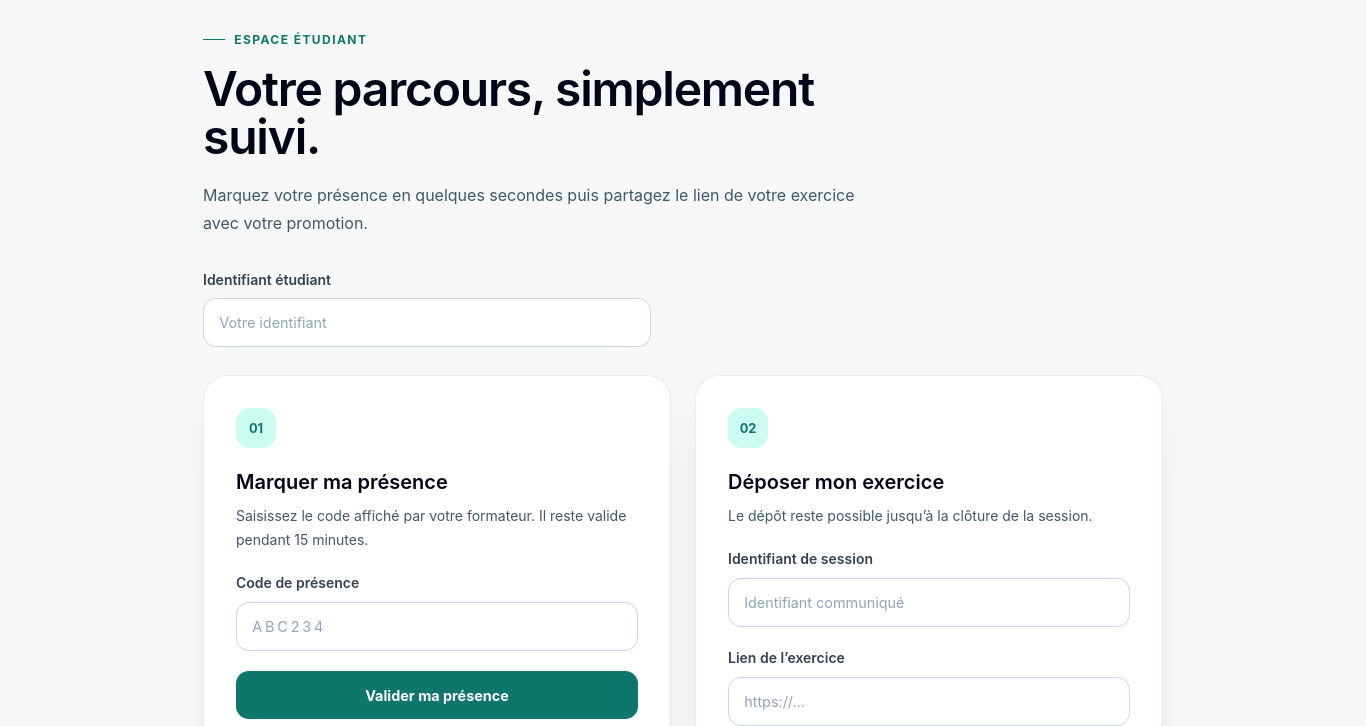
Test: EtudiantPage exercise › dépose un lien et permet de le remplacer tant que la relecture est en attente
Type "9" into the number field labelled "Identifiant étudiant". click: (427, 323)
box: [203,298,651,348]
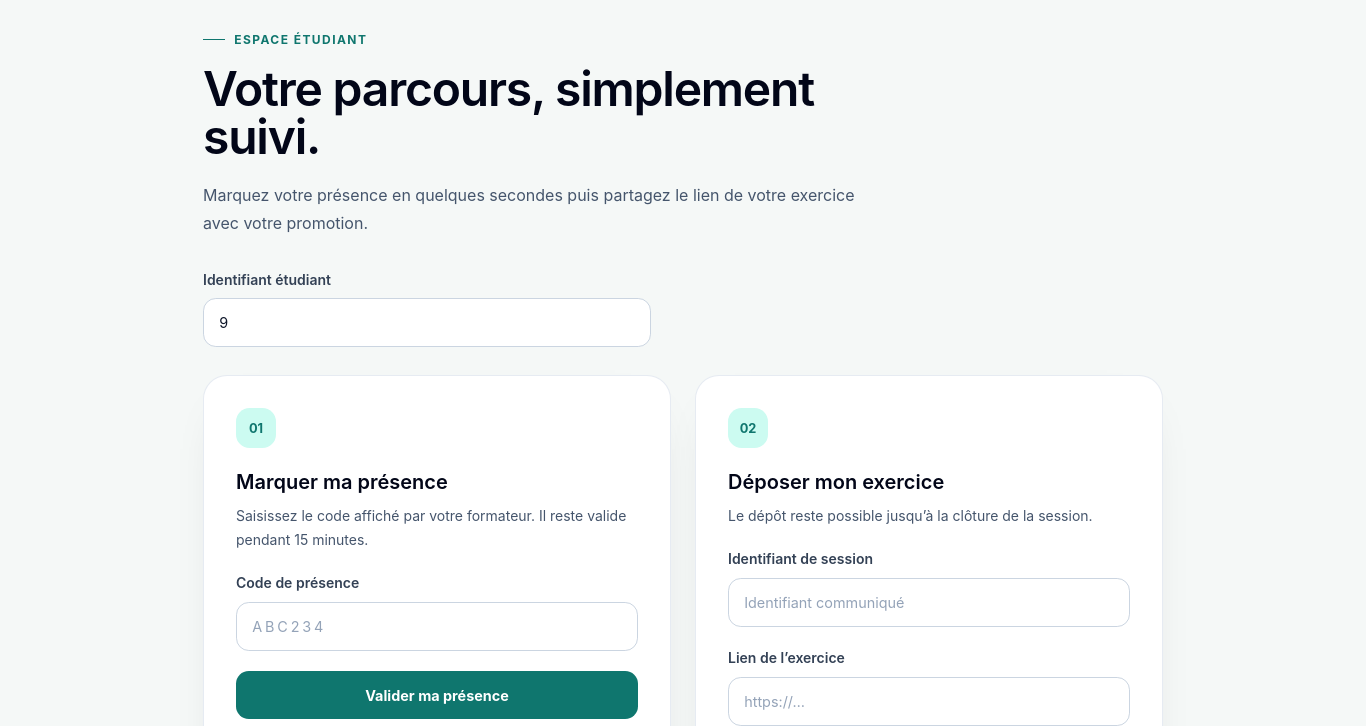
Type "3" into the number field labelled "Identifiant de session". click: (929, 603)
box: [728,578,1130,628]
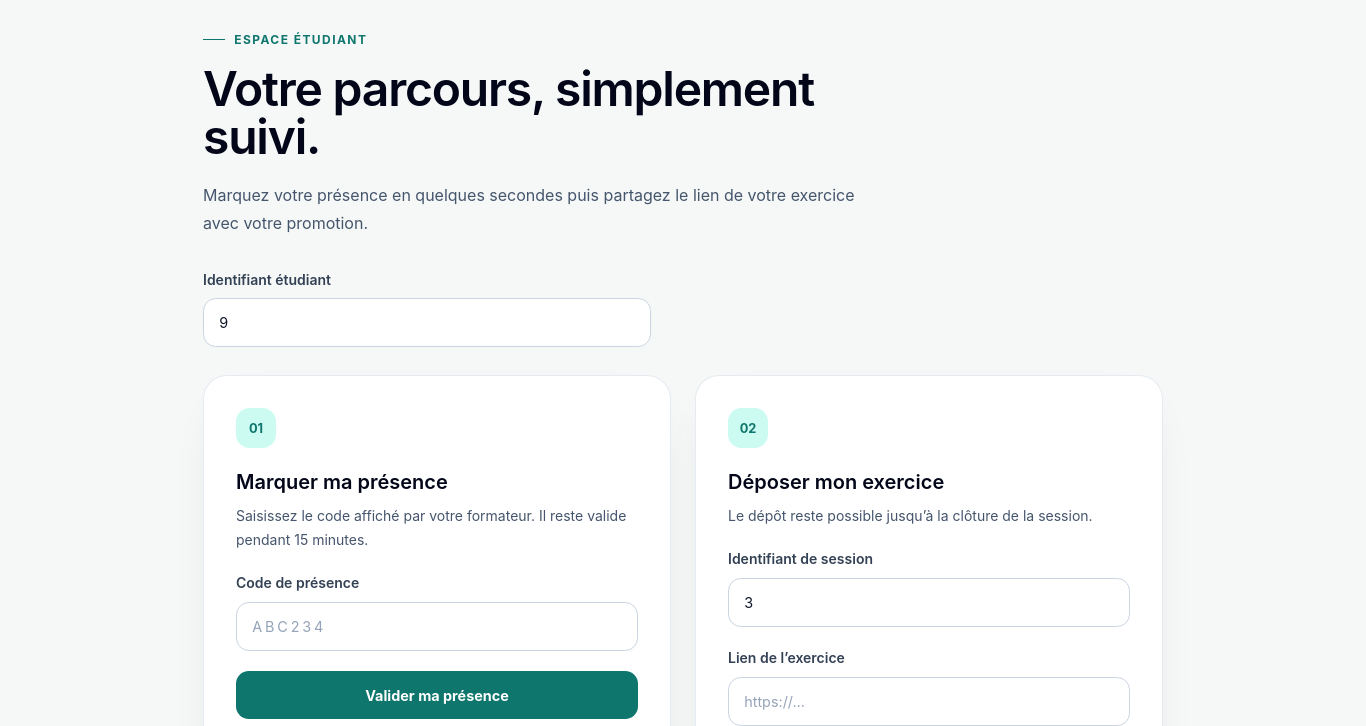
Type "https://example.org/work" into the field labelled "Lien de l’exercice". click: (929, 702)
box: [728,677,1130,725]
(page scrolled)
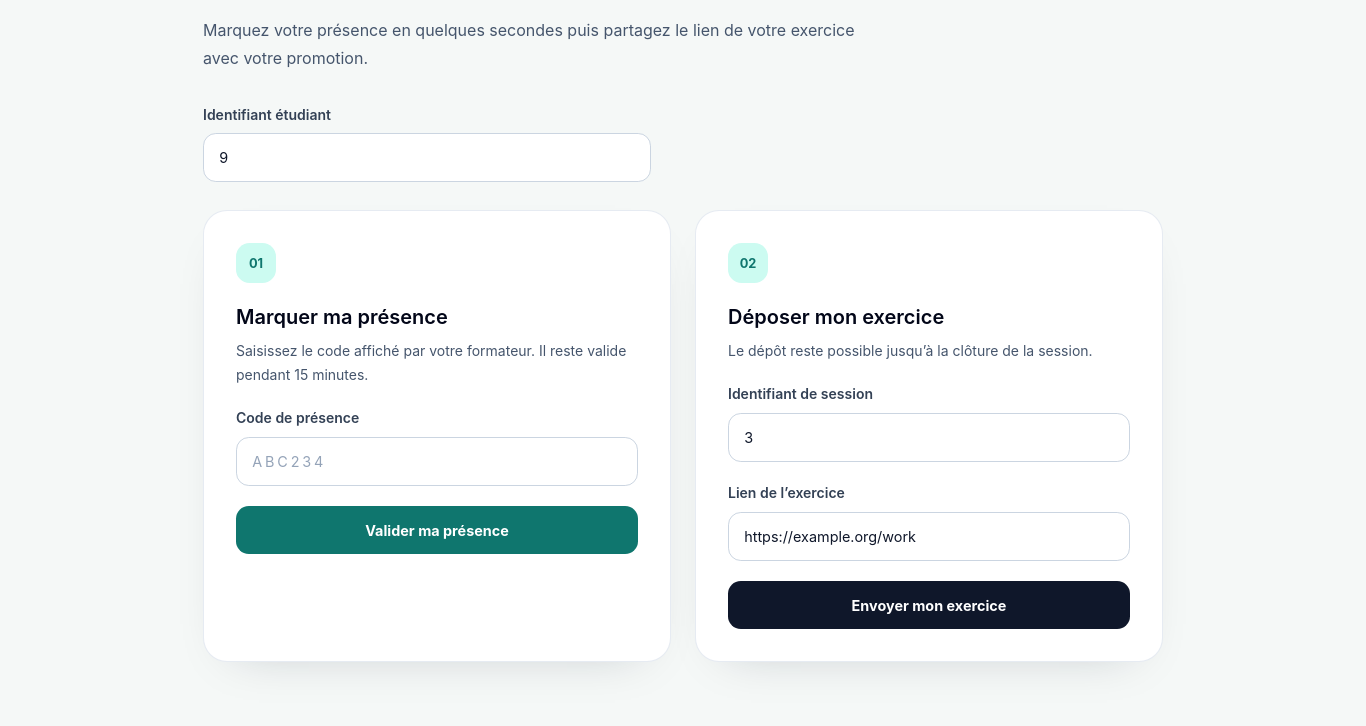
Click the button "Envoyer mon exercice". click: (929, 605)
box: [728,581,1130,629]
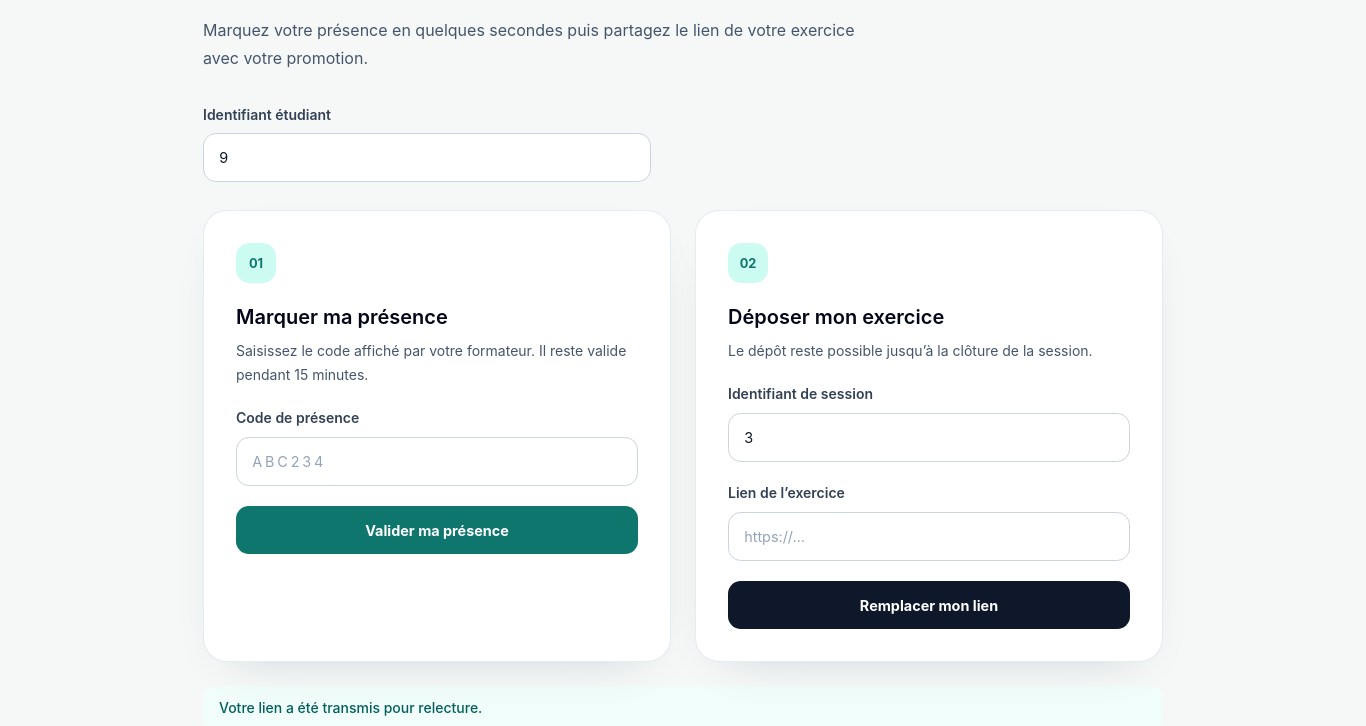
Expected: the message reads "Votre lien a été transmis pour relecture.", [219,699,482,716]
Type "https://example.org/new-work" into the field labelled "Lien de l’exercice". click: (929, 537)
box: [728,512,1130,561]
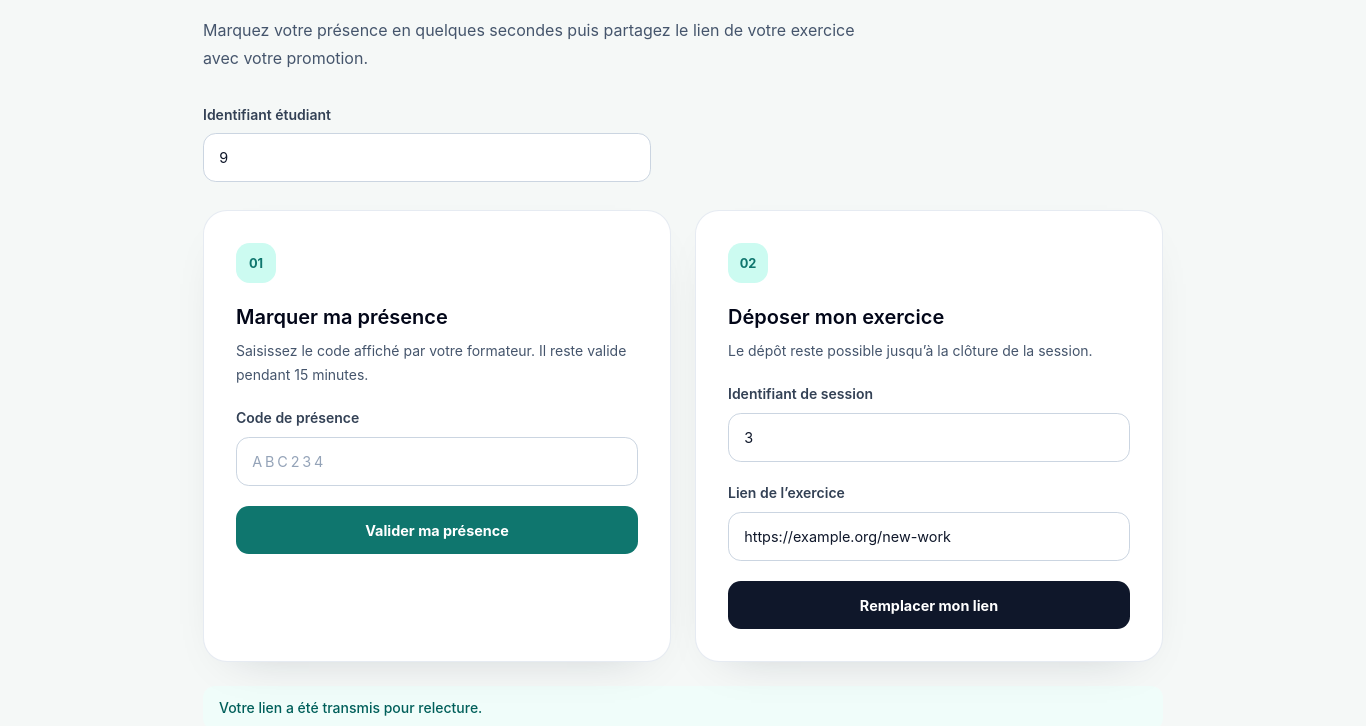
Click the button "Remplacer mon lien". click: (929, 605)
box: [728,581,1130,629]
(page scrolled)
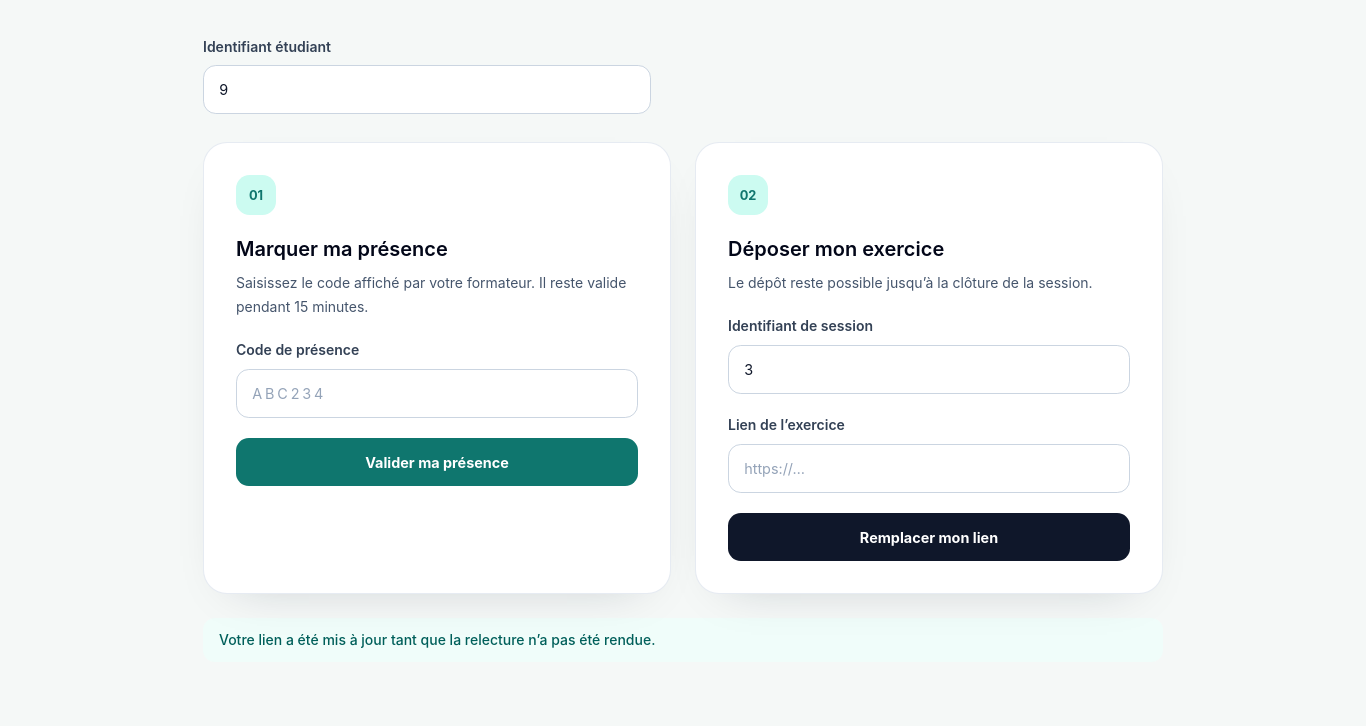
Expected: the text "Votre lien a été mis à jour tant que la relecture n’a pas été rendue." is shown, [203,618,1163,662]
